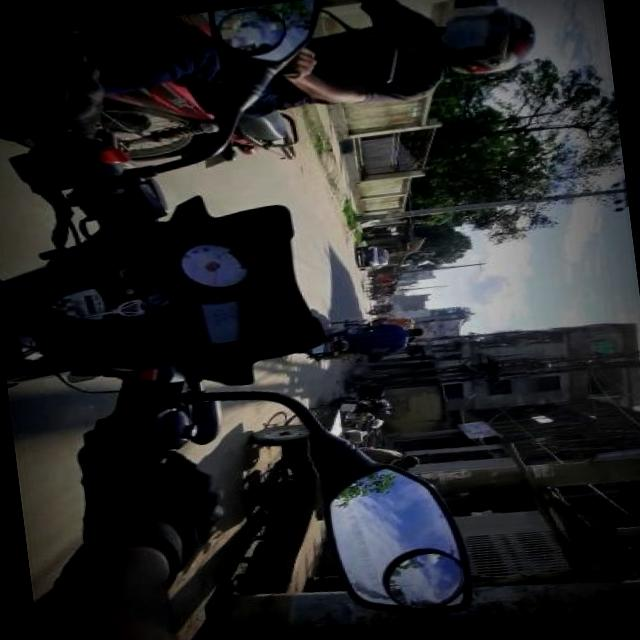car: (356, 244, 391, 273)
motorcycle: (82, 0, 541, 182), (302, 319, 428, 364), (316, 392, 394, 424), (327, 312, 410, 333), (364, 283, 400, 298), (367, 308, 391, 318)
